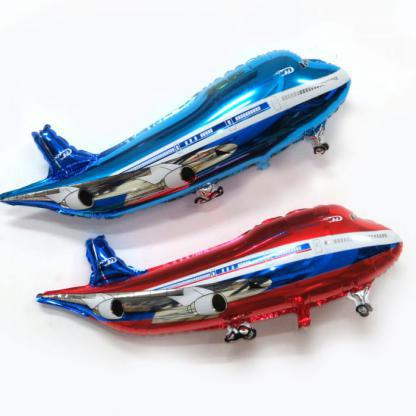CIV_Plane: (0, 47, 353, 223), (30, 202, 400, 345)
